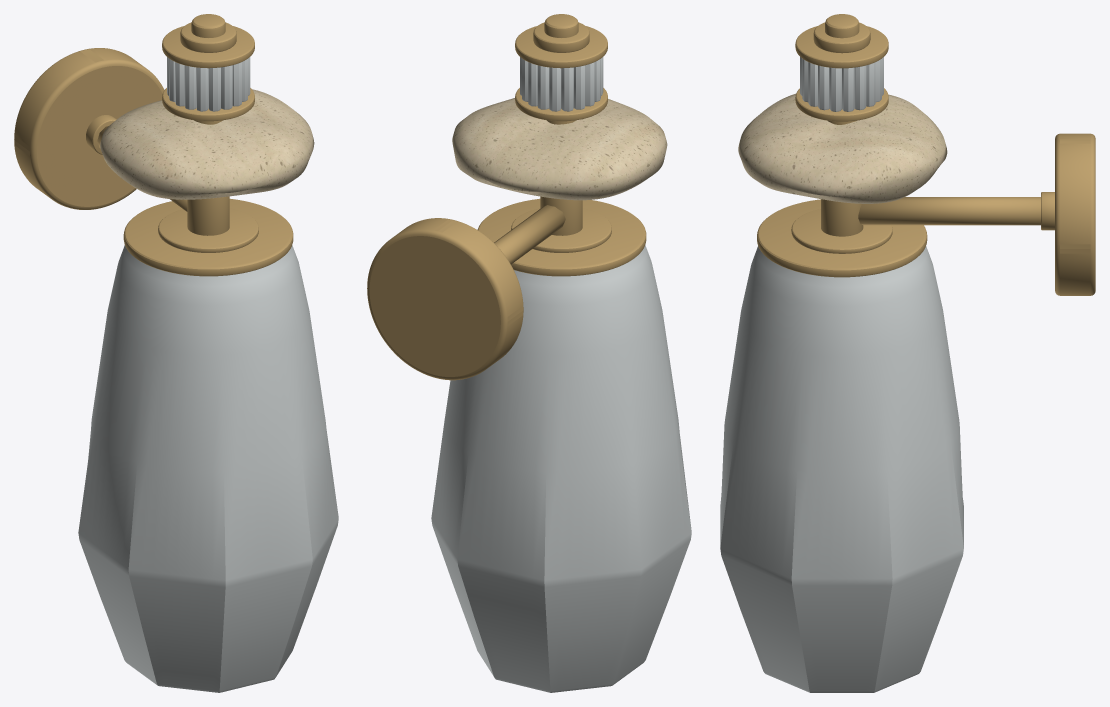
3 views of the same model, side by side, from view 1: azimuth 30°, elevation 25°; view 2: azimuth 150°, elevation 25°; view 3: azimuth 270°, elevation 25° (orthographic).
Visible parts, largest first — view 1: bulb0_glass, brass, travertine; view 2: bulb0_glass, brass, travertine; view 3: bulb0_glass, brass, travertine.
Boxes of the visible parts, x1,y1,x2,y2 form: bulb0_glass: [78, 57, 338, 692]; brass: [14, 14, 293, 276]; travertine: [100, 89, 314, 199]; bulb0_glass: [431, 57, 691, 692]; brass: [367, 14, 646, 380]; travertine: [452, 98, 667, 200]; bulb0_glass: [720, 57, 963, 692]; brass: [757, 14, 1095, 295]; travertine: [738, 93, 947, 203].
Bounding box in the file's own units: 0.1201 × 0.35 × 0.185.
Materials: 5 (1 with a texture image).
